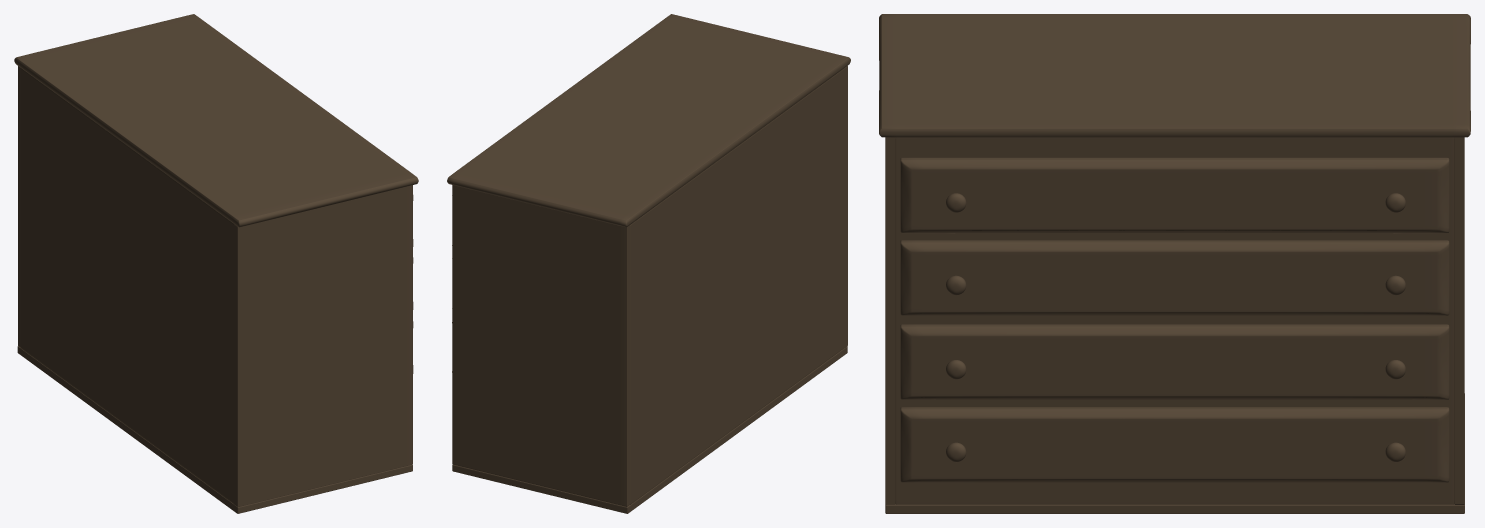
Rendered from drawer.fbx.
The picture shows the model from 3 angles, left to right: view 1: azimuth 30°, elevation 25°; view 2: azimuth 150°, elevation 25°; view 3: azimuth 270°, elevation 25°; orthographic projection. The views are drawn at different scales.
Visible parts, largest first — view 1: Cube.030; view 2: Cube.030; view 3: Cube.030, Cube.036, Cube.033, Cube.001, Cube.034.
Part boxes in pixels (box(x1,y1,x2,y2)): Cube.030: box(14, 14, 418, 513); Cube.030: box(447, 14, 850, 513); Cube.030: box(879, 14, 1470, 513); Cube.036: box(900, 157, 1449, 233); Cube.033: box(900, 324, 1449, 399); Cube.001: box(900, 240, 1449, 315); Cube.034: box(900, 407, 1449, 482).
Bounding box in the file's own units: 195 × 281 × 389.
